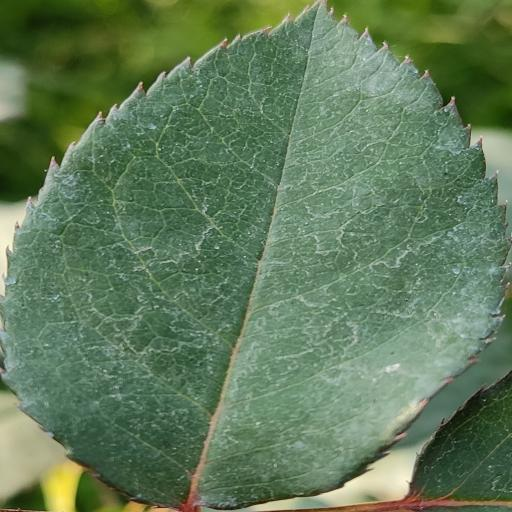healthy_leaf: (2, 0, 508, 512)
